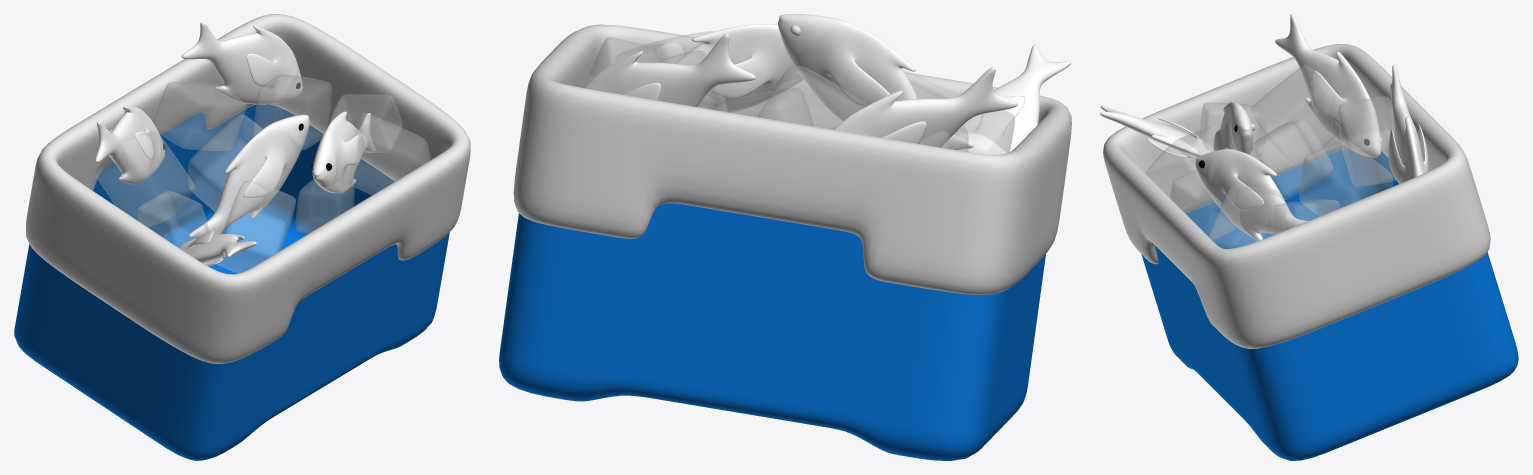
3 renders of one model, left to right at view 1: azimuth 30°, elevation 25°; view 2: azimuth 150°, elevation 25°; view 3: azimuth 270°, elevation 25°, orthographic. The views are drawn at different scales.
Parts seen in each view (by area): view 1: Cube.127, Cube.126, Cube.138, Cube.137, Cube.130, Cube.133, Cube.129, Cube.131, Cube.132, Cube.139, Cube.140, Cube.128 (+4 smaller); view 2: Cube.126, Cube.127, Cube.137, Cube.139, Cube.140, Cube.138, Cube.141, Cube.128, Cube.133, Cube.135, Cube.136, Cube.131 (+4 smaller); view 3: Cube.127, Cube.126, Cube.139, Cube.140, Cube.130, Cube.132, Cube.133, Cube.128, Cube.131, Cube.129, Cube.138, Cube.134 (+4 smaller).
Boxes of the visible parts, x1,y1,x2,y2 form: Cube.127: (26, 14, 470, 363); Cube.126: (14, 104, 449, 460); Cube.138: (181, 22, 302, 104); Cube.137: (188, 114, 309, 238); Cube.130: (95, 131, 194, 226); Cube.133: (153, 82, 245, 150); Cube.129: (217, 181, 295, 272); Cube.131: (350, 113, 429, 194); Cube.132: (253, 74, 331, 150); Cube.139: (95, 106, 164, 184); Cube.140: (312, 111, 375, 193); Cube.128: (188, 114, 262, 211); Cube.126: (499, 203, 1045, 460); Cube.127: (513, 24, 1071, 294); Cube.137: (778, 14, 973, 149); Cube.139: (833, 67, 1017, 147); Cube.140: (674, 24, 803, 112); Cube.138: (584, 34, 755, 106); Cube.141: (954, 44, 1070, 154); Cube.128: (758, 66, 867, 129); Cube.133: (713, 88, 813, 126); Cube.135: (941, 110, 1014, 154); Cube.136: (589, 37, 658, 81); Cube.131: (615, 31, 713, 107); Cube.127: (1103, 44, 1490, 348); Cube.126: (1141, 148, 1518, 460); Cube.139: (1275, 14, 1381, 157); Cube.140: (1195, 149, 1307, 240); Cube.130: (1251, 65, 1334, 166); Cube.132: (1299, 140, 1392, 215); Cube.133: (1338, 96, 1395, 186); Cube.128: (1250, 120, 1332, 199); Cube.131: (1208, 186, 1285, 248); Cube.129: (1146, 126, 1218, 212); Cube.138: (1388, 64, 1428, 183); Cube.134: (1170, 170, 1236, 239).
Bounding box in the file's own units: 5.75 × 4.85 × 5.4.
